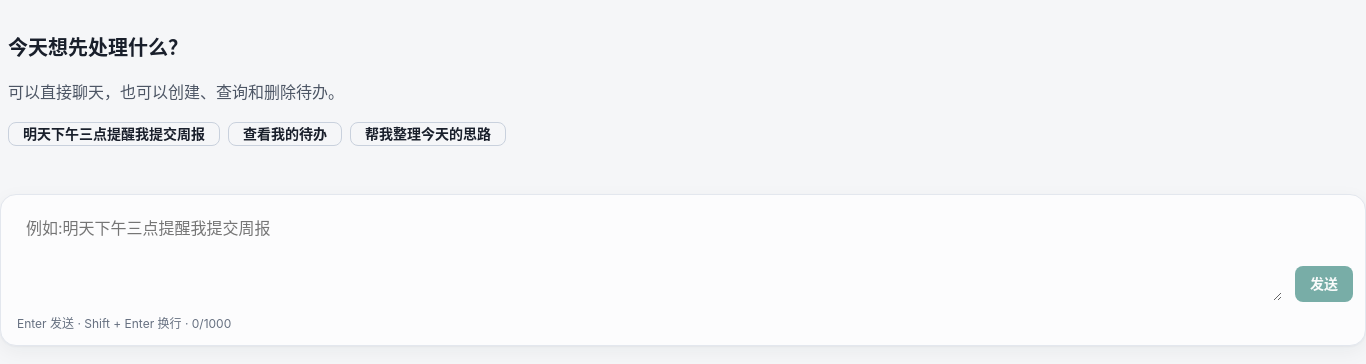
it: renders unsupported intents without raw error text
In the text box named "消息": {"x": 650, "y": 254} [17,207,1283,302], type "今天天气怎么样"
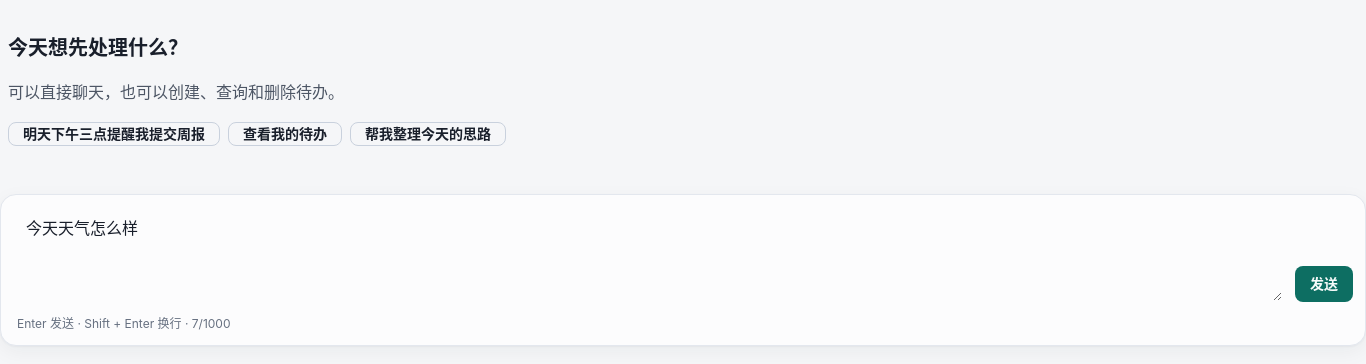
Click the button "发送": {"x": 1324, "y": 284} [1295,266,1353,302]
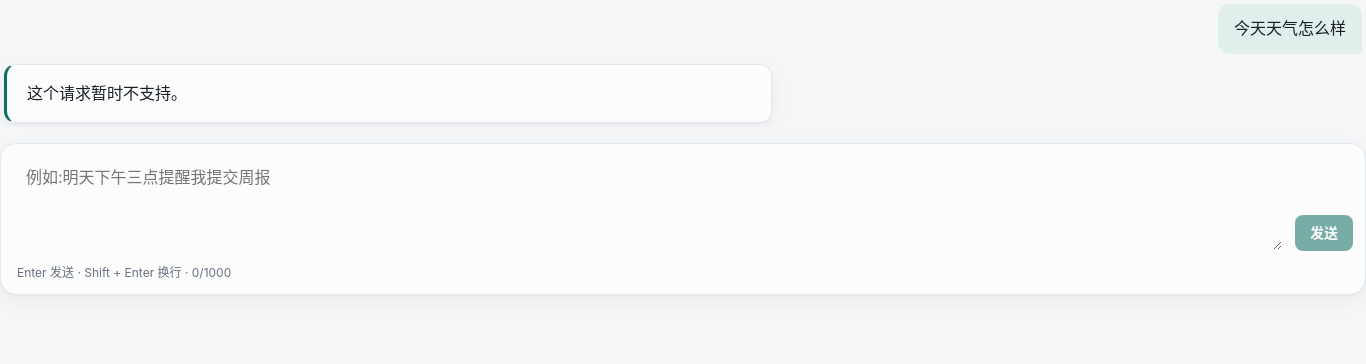
Expected: the text "这个请求暂时不支持。" is shown, [4,64,772,123]
